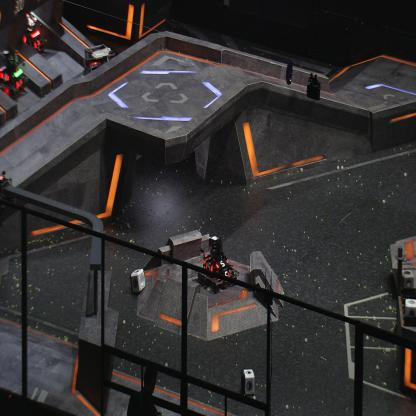car: (196, 234, 239, 293), (82, 42, 118, 94), (0, 48, 28, 99), (16, 8, 46, 55)
